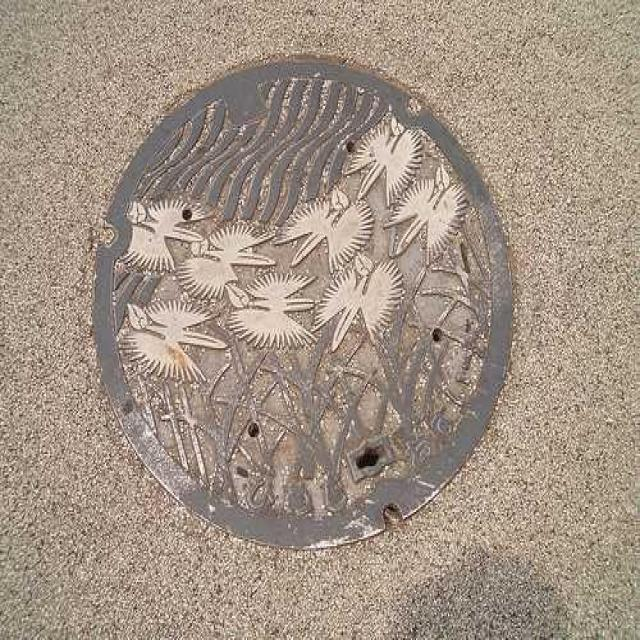manhole: (95, 58, 511, 547)
